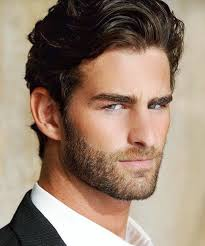b.y: (102, 145, 162, 194)
